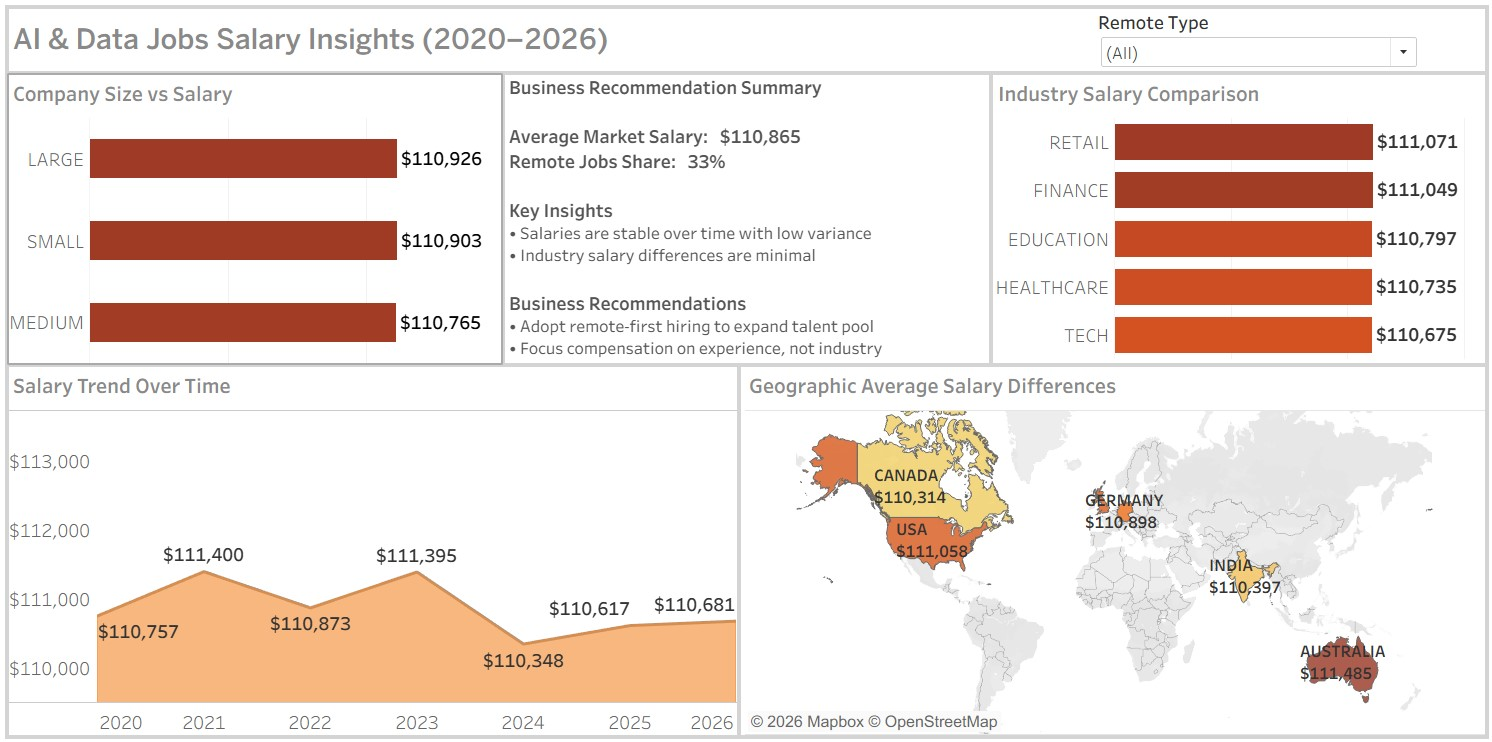

Layout of this report page (visuals, bound fields, positions):
{"tool":"tableau","page":{"name":"Dashboard 1","canvas":[1500,750],"ordinal":0},"visuals":[{"type":"title","box":[8,8,1484,66]},{"type":"filter","title":"Geographic Average Salary Differences","param":"[federated.1myy9uq10u0hgu19hosve1tbrw02].[none:remote_type:nk]","box":[1097,8,330,69]},{"type":"worksheet","title":"Company Size vs Salary","mark":"Automatic","rows":["company_size"],"cols":["Calculation_0417019852926976"],"box":[12,78,492,288]},{"type":"worksheet","title":"Business Recommendation Panel","mark":"Text","box":[504,78,492,288]},{"type":"worksheet","title":"Industry Salary Comparison","mark":"Automatic","rows":["industry"],"cols":["Calculation_0417019852926976"],"box":[996,78,492,288]},{"type":"worksheet","title":"Salary Trend Over Time","mark":"Automatic","rows":["Calculation_0417019852926976","Calculation_0417019852926976"],"cols":["posted_year"],"box":[12,370,732,368]},{"type":"worksheet","title":"Geographic Average Salary Differences","mark":"Automatic","box":[744,370,744,368]}]}

Visuals, with their boxes in screenshot pixels (x1, y1, x2, y2), scaled from the page's 1500x750 canvas onto the 1492x742 screenshot:
title: box(8, 8, 1484, 73)
"Geographic Average Salary Differences" filter: box(1091, 8, 1419, 76)
"Company Size vs Salary" worksheet: box(12, 77, 501, 362)
"Business Recommendation Panel" worksheet (Text marks): box(501, 77, 991, 362)
"Industry Salary Comparison" worksheet: box(991, 77, 1480, 362)
"Salary Trend Over Time" worksheet: box(12, 366, 740, 730)
"Geographic Average Salary Differences" worksheet: box(740, 366, 1480, 730)
